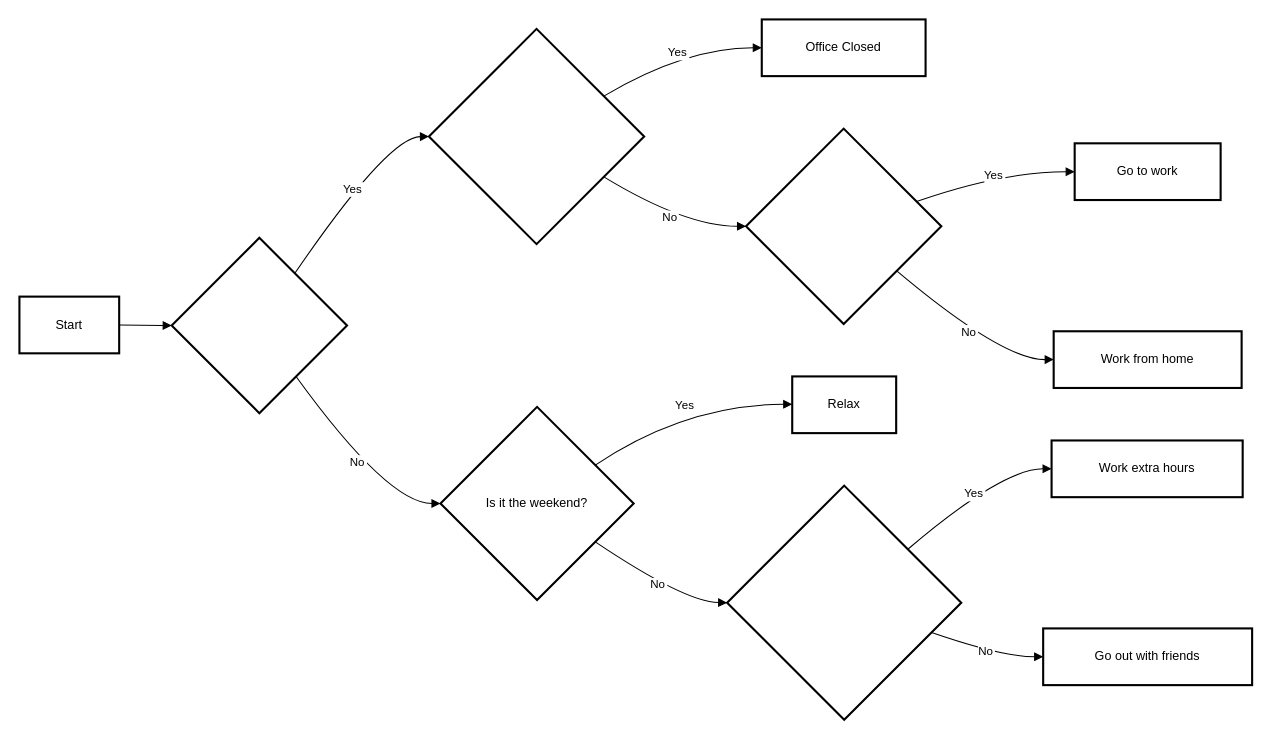
The diagram is 1271 pixels wide and 738 high, and some of its shapes have lost their labels. The centre of each missing label's shape, as x and y in pixels:
"Is it a public holiday?" belongs at point (536, 136).
"Is it a weekday?" belongs at point (259, 325).
"Is the office open?" belongs at point (843, 225).
"Is there overtime work?" belongs at point (844, 602).
